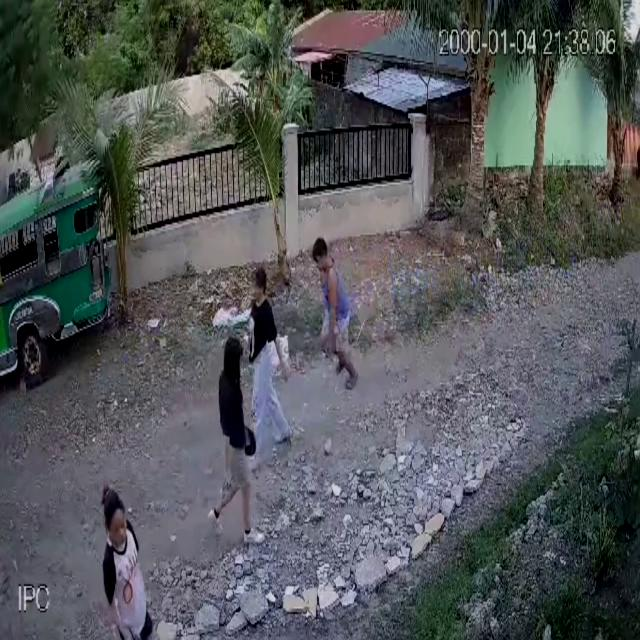running: (311, 235, 362, 394)
walking: (205, 332, 270, 550), (241, 263, 294, 473), (98, 482, 158, 640)
